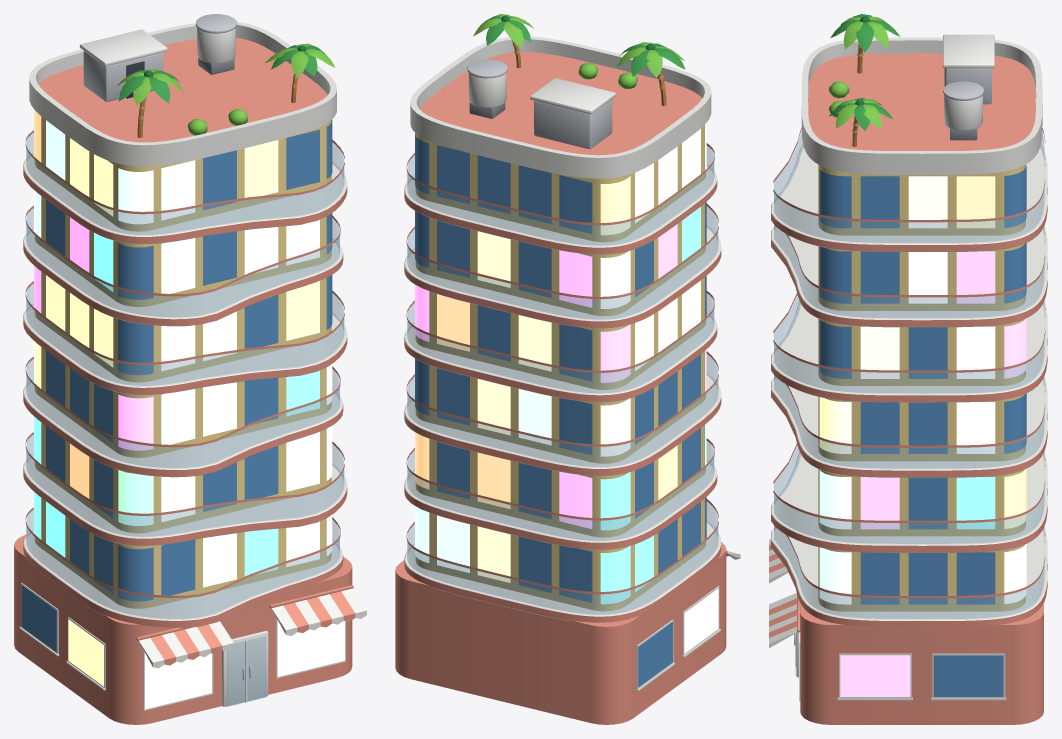
Rendered from predio_varandas_amarelo.glb.
3 views of the same model, side by side, from view 1: azimuth 30°, elevation 25°; view 2: azimuth 150°, elevation 25°; view 3: azimuth 270°, elevation 25° (orthographic). The views are drawn at different scales.
Visible parts, largest first — view 1: predio_varandas_amarelo; view 2: predio_varandas_amarelo; view 3: predio_varandas_amarelo.
Boxes of the visible parts, box(x1,y1,x2,y2) form: predio_varandas_amarelo: box(14, 14, 366, 724); predio_varandas_amarelo: box(395, 14, 740, 724); predio_varandas_amarelo: box(769, 14, 1047, 724).
Size of the model in its own units: 11 by 26.35 by 10.75.
9 materials, 1 textured.
